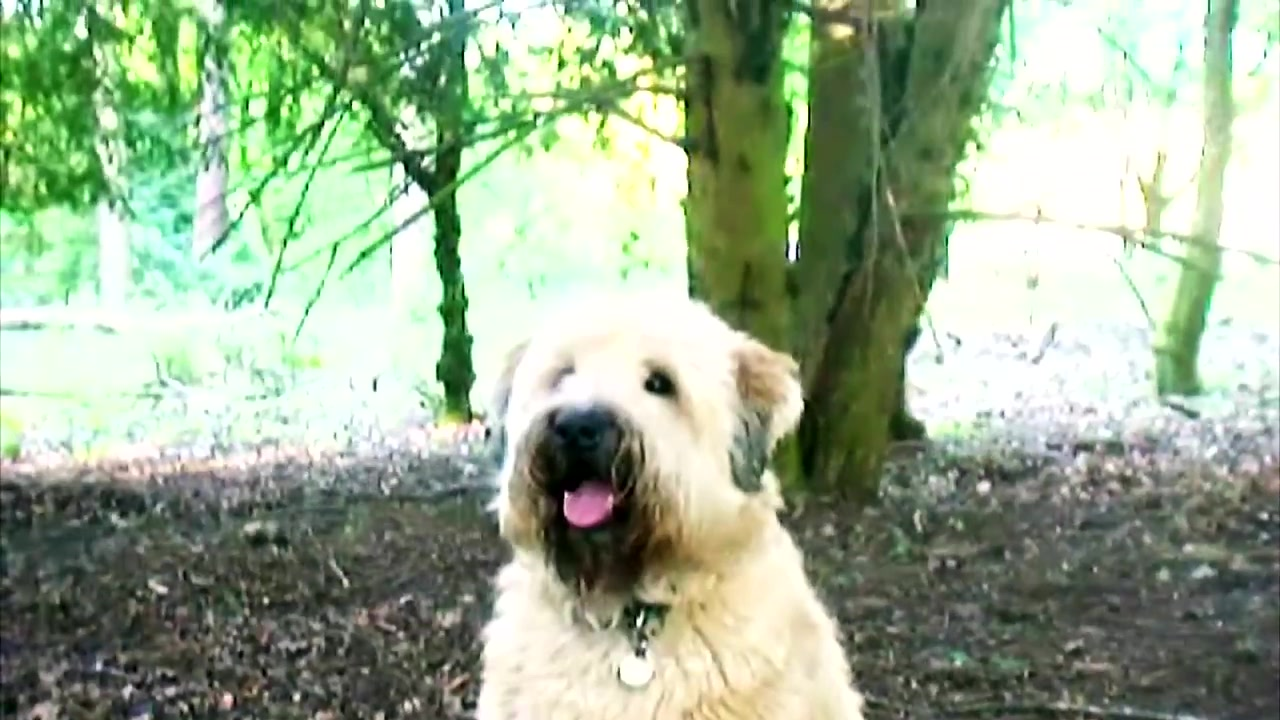dog: (473, 287, 863, 720)
